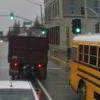Traffic light: (68, 13, 95, 50)
